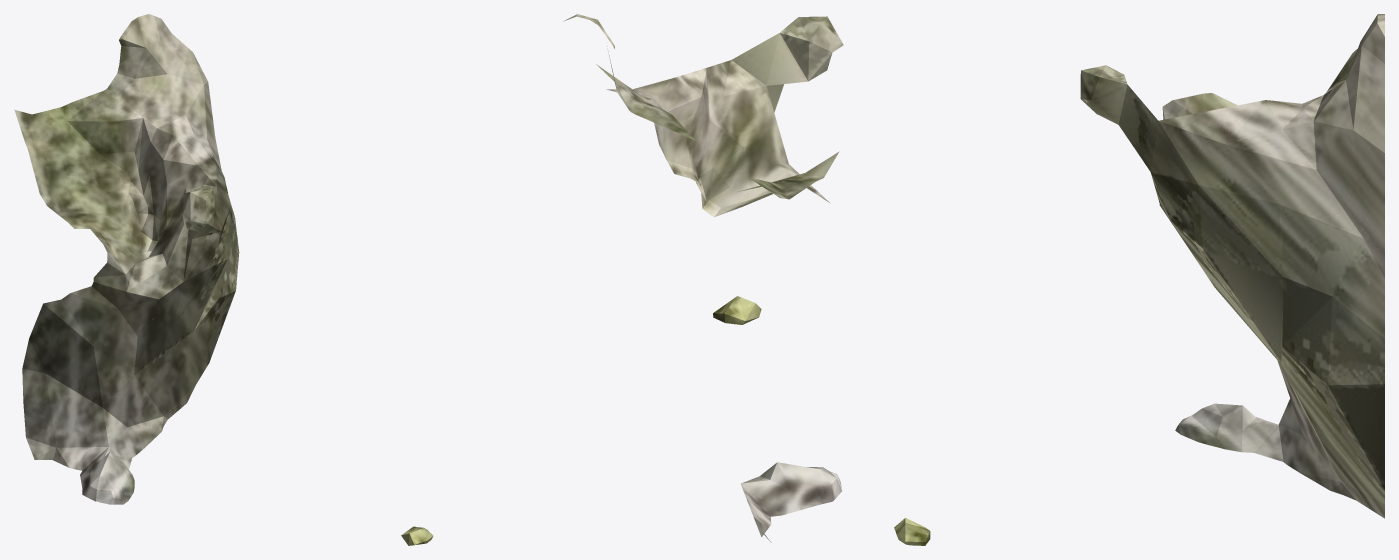
3 renders of one model, left to right at view 1: azimuth 30°, elevation 25°; view 2: azimuth 150°, elevation 25°; view 3: azimuth 270°, elevation 25°, orthographic. The views are drawn at different scales.
Bounding box in the file's own units: 2.42 × 4.1 × 3.83.
1 material, 1 textured.
